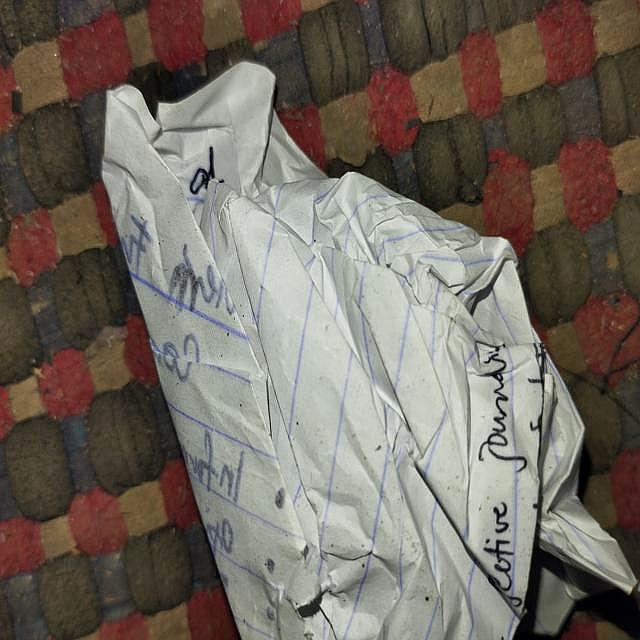Biodegradable: (109, 61, 640, 640)
